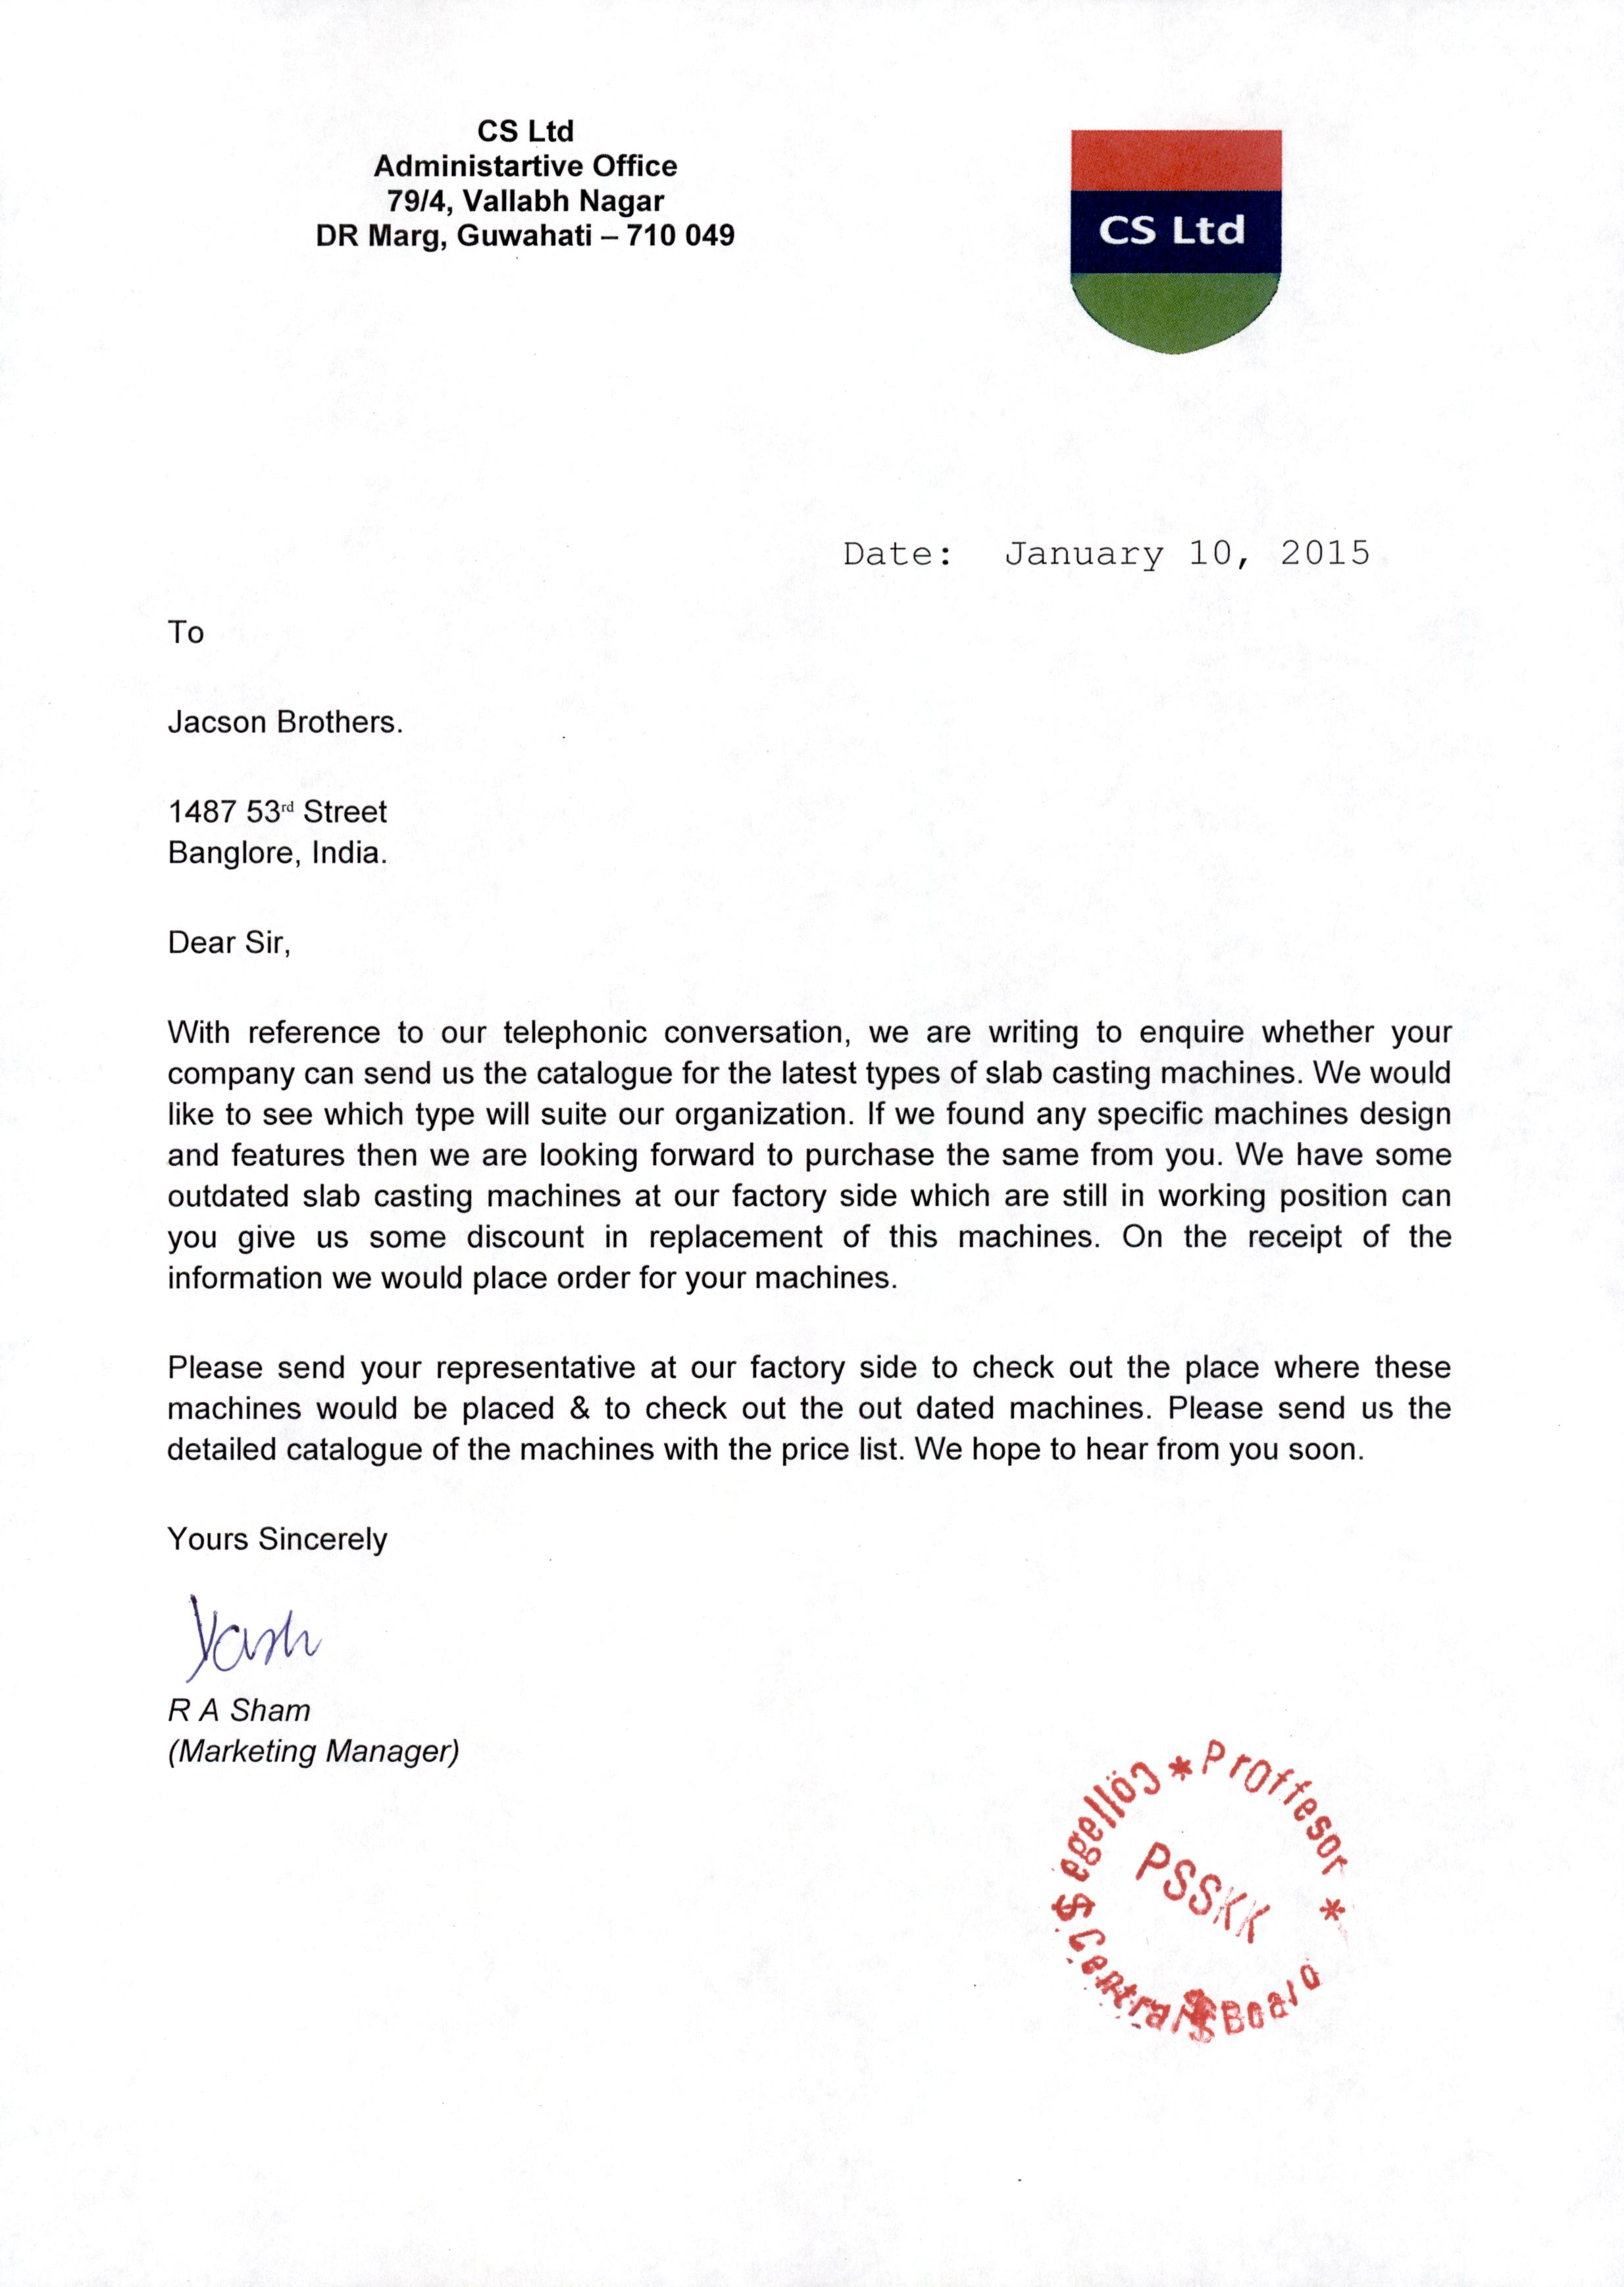Signature: (172, 1584, 332, 1686)
